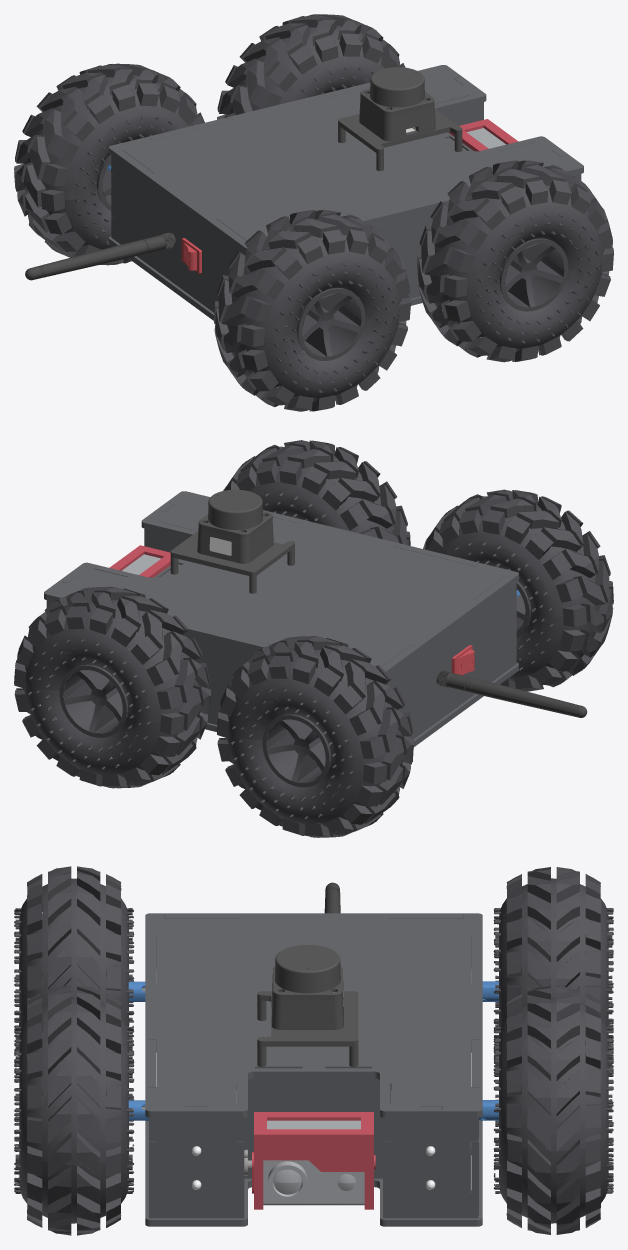
File: kensa_rover.glb
The picture shows the model from 3 angles, top to bottom: view 1: azimuth 30°, elevation 25°; view 2: azimuth 150°, elevation 25°; view 3: azimuth 270°, elevation 25°; orthographic projection. The views are drawn at different scales.
Visible parts, largest first — view 1: base_link, wheel_rf, wheel_rb, wheel_lb, wheel_lf, top_lidar; view 2: base_link, wheel_lb, wheel_lf, wheel_rb, wheel_rf, top_lidar; view 3: base_link, wheel_rf, wheel_lf, wheel_lb, wheel_rb, top_lidar.
Boxes of the visible parts, box(x1,y1,x2,y2) form: base_link: box(25, 65, 583, 320); wheel_rf: box(416, 160, 613, 362); wheel_rb: box(214, 209, 410, 411); wheel_lb: box(14, 63, 204, 265); wheel_lf: box(217, 14, 405, 119); top_lidar: box(338, 67, 462, 170); base_link: box(44, 491, 587, 747); wheel_lb: box(217, 636, 413, 837); wheel_lf: box(14, 586, 211, 788); wheel_rb: box(423, 489, 613, 691); wheel_rf: box(223, 440, 410, 545); top_lidar: box(170, 489, 294, 593); base_link: box(141, 882, 482, 1226); wheel_rf: box(14, 985, 148, 1235); wheel_lf: box(479, 985, 613, 1234); wheel_lb: box(482, 867, 613, 1069); wheel_rb: box(14, 866, 145, 1074); top_lidar: box(257, 945, 358, 1066).
Size of the model in its own units: 0.3578 by 0.1492 by 0.3201.
